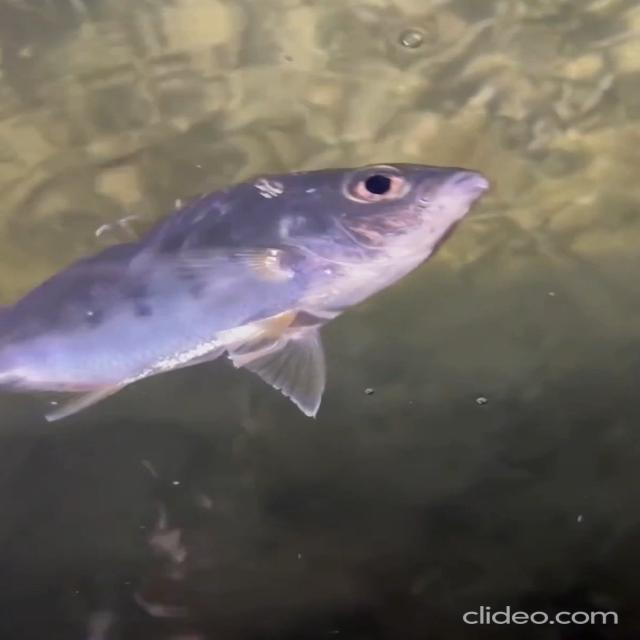fish: (0, 153, 504, 431)
